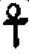Ankh: (2, 1, 29, 52)
